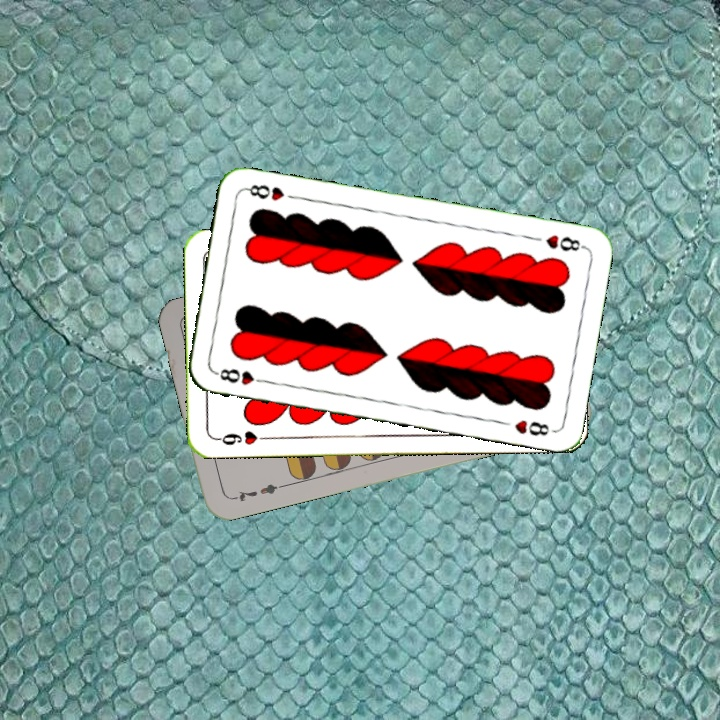E7: (228, 480, 286, 505)
H8: (211, 364, 270, 388), (541, 231, 587, 254)
H9: (212, 427, 271, 448)
